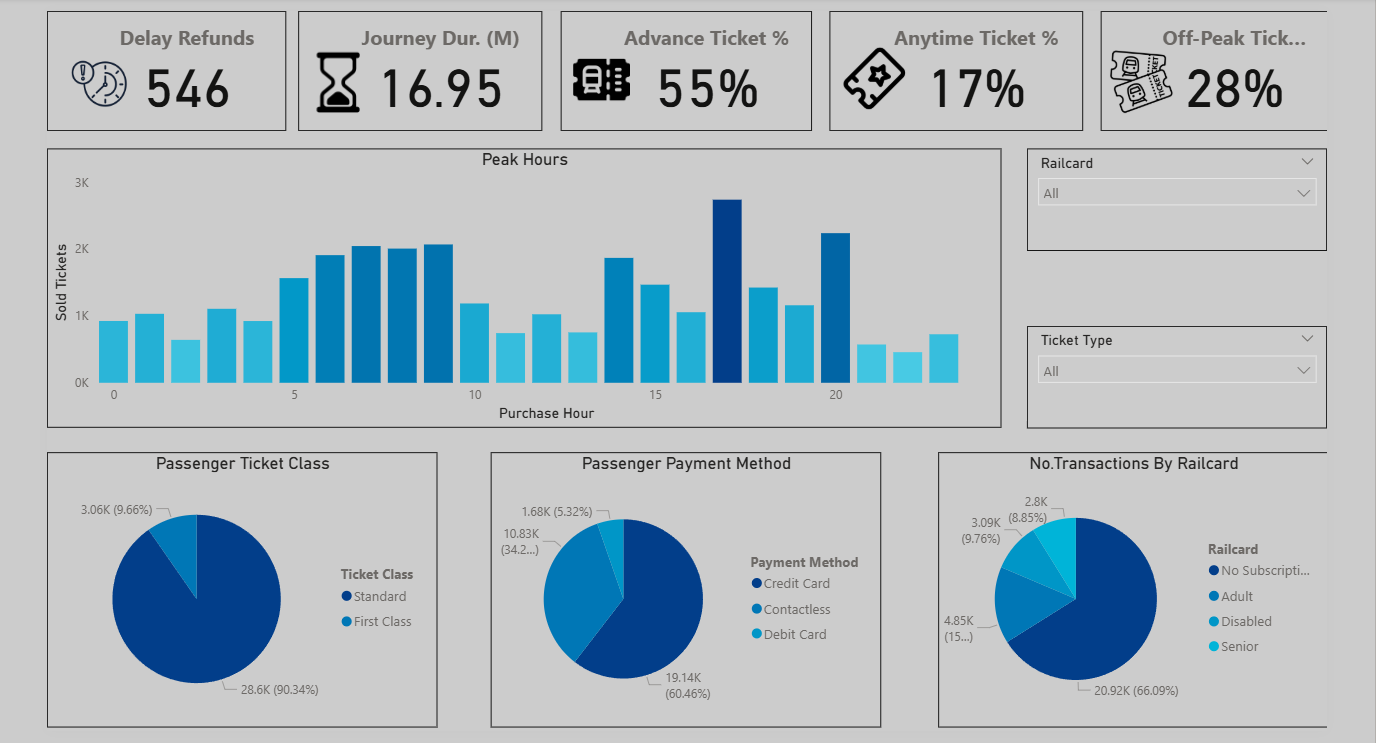

Layout of this report page (visuals, bound fields, positions):
{"tool":"powerbi","page":{"name":"Customer Behavior","canvas":[1280,720],"ordinal":3},"visuals":[{"type":"cardVisual","fields":{"Data":["Last.Avg Journey Duration"]},"box":[251.4,0,244.1,119.6],"z":0},{"type":"cardVisual","fields":{"Data":["_Measure.Advance Ticket %"]},"box":[513.8,0,251.4,119.6],"z":1000},{"type":"cardVisual","fields":{"Data":["_Measure.Anytime Ticket %"]},"box":[782.3,0,253.9,119.6],"z":2000},{"type":"cardVisual","fields":{"Data":["_Measure.Off_Peak Ticket %"]},"box":[1053.2,0,227,119.6],"z":3000},{"type":"pieChart","title":"Passenger Ticket Class","fields":{"Category":["Last.Ticket Class"],"Y":["CountNonNull(Last.Transaction ID)"]},"box":[0,441.2,390,275],"z":4000},{"type":"pieChart","title":"Passenger Payment Method","fields":{"Category":["Last.Payment Method"],"Y":["CountNonNull(Last.Transaction ID)"]},"box":[443.8,441.2,390,275],"z":5000},{"type":"pieChart","title":"No.Transactions By Railcard","fields":{"Category":["Last.Railcard"],"Y":["CountNonNull(Last.Transaction ID)"]},"box":[890.9,441.8,390,275],"z":6000},{"type":"columnChart","title":"Peak Hours","fields":{"Category":["Last.Purchase Hour"],"Y":["CountNonNull(Last.Transaction ID)"]},"box":[0,137.9,954.4,279.5],"z":7000},{"type":"cardVisual","fields":{"Data":["_Measure.Total Refunds for Delayed"]},"box":[0,0,239.2,119.6],"z":8000},{"type":"image","box":[229.4,35.4,122,73.2],"z":9000},{"type":"image","box":[495.5,35.4,119.6,67.1],"z":10000},{"type":"image","box":[782.3,28.1,89.1,80.5],"z":11000},{"type":"image","box":[1042.3,30.5,103.7,81.8],"z":12000},{"type":"slicer","fields":{"Values":["Last.Railcard"]},"box":[980,137.9,300.2,102.5],"z":13000},{"type":"slicer","fields":{"Values":["Last.Ticket Type"]},"box":[980,314.9,300.2,102.5],"z":14000},{"type":"image","box":[0,0,101.3,146.5],"z":14001}]}

Visuals, with their boxes on the page's 1280x720 design canvas (x1, y1, x2, y2). These are canvas units, not pixel positions in the 1376x743 screenshot, which may show the page scaled, cropped or inside an application window:
cardVisual - Last.Avg Journey Duration: BBox(251, 0, 496, 120)
cardVisual - _Measure.Advance Ticket %: BBox(514, 0, 765, 120)
cardVisual - _Measure.Anytime Ticket %: BBox(782, 0, 1036, 120)
cardVisual - _Measure.Off_Peak Ticket %: BBox(1053, 0, 1280, 120)
"Passenger Ticket Class" pieChart: BBox(0, 441, 390, 716)
"Passenger Payment Method" pieChart: BBox(444, 441, 834, 716)
"No.Transactions By Railcard" pieChart: BBox(891, 442, 1281, 717)
"Peak Hours" columnChart: BBox(0, 138, 954, 417)
cardVisual - _Measure.Total Refunds for Delayed: BBox(0, 0, 239, 120)
image: BBox(229, 35, 351, 109)
image: BBox(496, 35, 615, 102)
image: BBox(782, 28, 871, 109)
image: BBox(1042, 30, 1146, 112)
slicer - Last.Railcard: BBox(980, 138, 1280, 240)
slicer - Last.Ticket Type: BBox(980, 315, 1280, 417)
image: BBox(0, 0, 101, 146)
